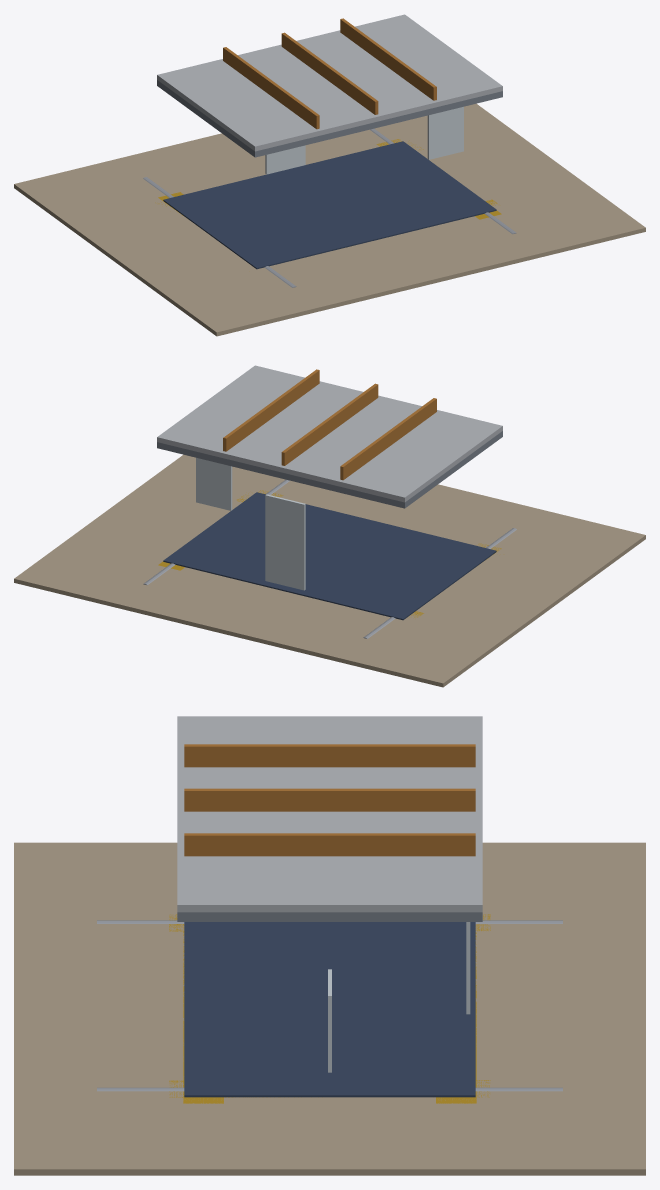
File: stage_10_roof_covering.glb
The picture shows the model from 3 angles, top to bottom: view 1: azimuth 30°, elevation 25°; view 2: azimuth 150°, elevation 25°; view 3: azimuth 270°, elevation 25°; orthographic projection. The views are drawn at different scales.
Visible parts, largest first — view 1: world; view 2: world; view 3: world.
Boxes of the visible parts, x1,y1,x2,y2 form: world: (14, 14, 645, 336); world: (14, 365, 645, 687); world: (14, 716, 645, 1175).
Size of the model in its own units: 11 by 4.2 by 9.
